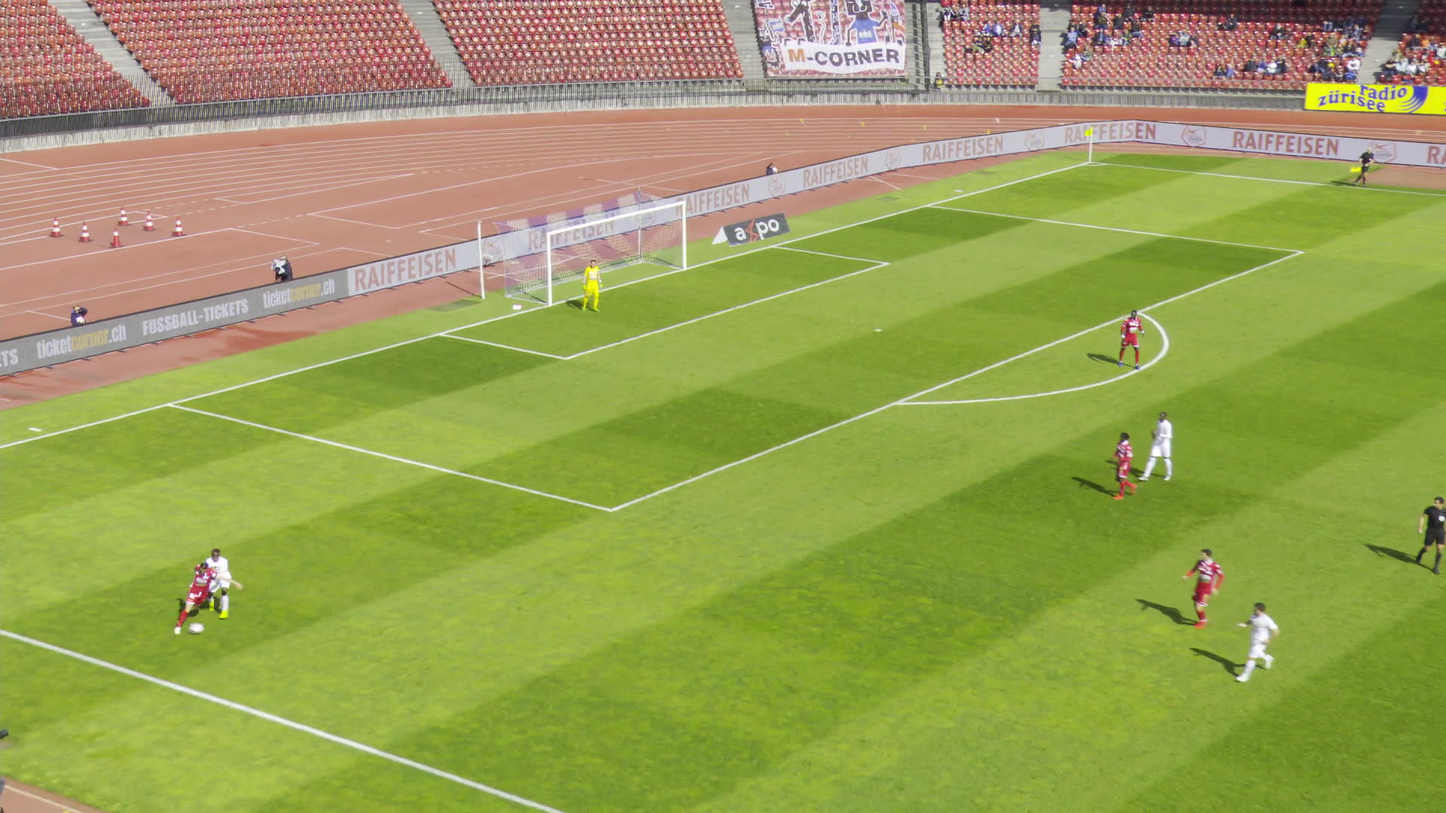ball: (190, 623, 201, 633)
player: (167, 560, 242, 633), (1181, 548, 1225, 629), (1243, 603, 1285, 682), (1142, 413, 1176, 484), (1111, 434, 1141, 501), (205, 548, 230, 618), (1119, 310, 1146, 370), (581, 260, 602, 314)
referee: (1414, 496, 1445, 574), (1352, 145, 1374, 187)
